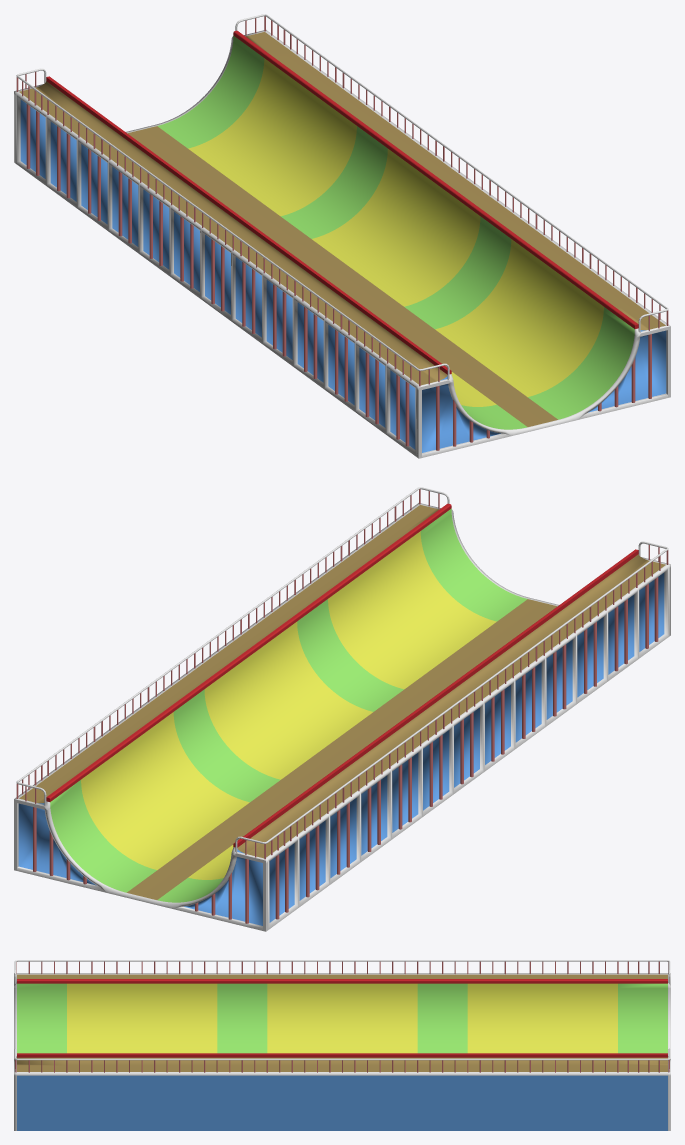
The model's file is Halfpipe_Large.fbx.
The picture shows the model from 3 angles, top to bottom: view 1: azimuth 30°, elevation 25°; view 2: azimuth 150°, elevation 25°; view 3: azimuth 270°, elevation 25°; orthographic projection. The views are drawn at different scales.
Parts seen in each view (by area): view 1: Plane, Plane.001; view 2: Plane, Plane.001; view 3: Plane, Plane.001.
Boxes of the visible parts, left/top/right/bottom form: Plane: left=14, top=14, right=670, bottom=458; Plane.001: left=46, top=30, right=638, bottom=374; Plane: left=14, top=487, right=670, bottom=931; Plane.001: left=46, top=503, right=638, bottom=847; Plane: left=14, top=960, right=670, bottom=1130; Plane.001: left=17, top=979, right=667, bottom=1057.
Bounding box in the file's own units: 3300 × 1102 × 9180.
